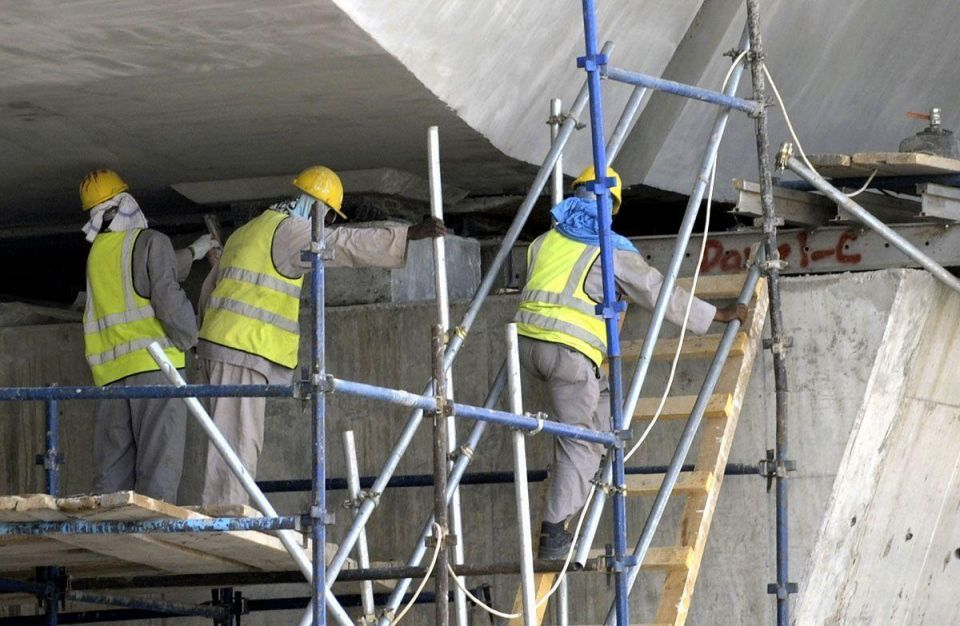SAFE: (201, 167, 346, 352), (72, 166, 182, 381), (518, 163, 615, 368)
